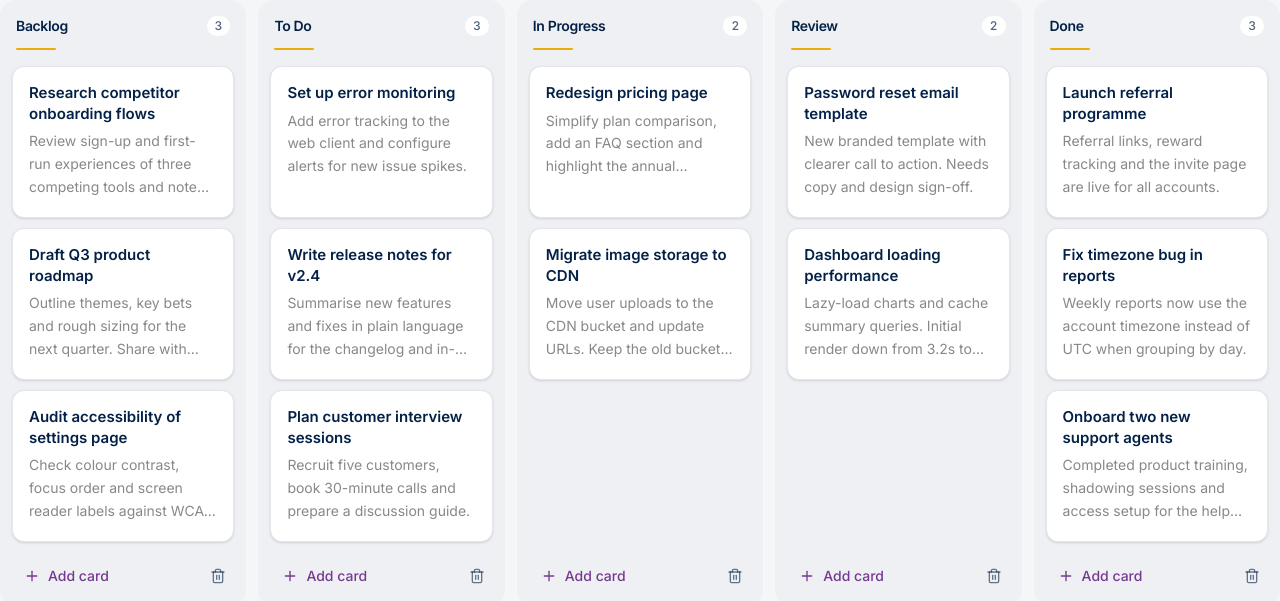
Test case: Column › keeps the old name when cleared or cancelled
Click the button with aria-label "Rename column: Review" at (878, 26), box [783,12,974,40]
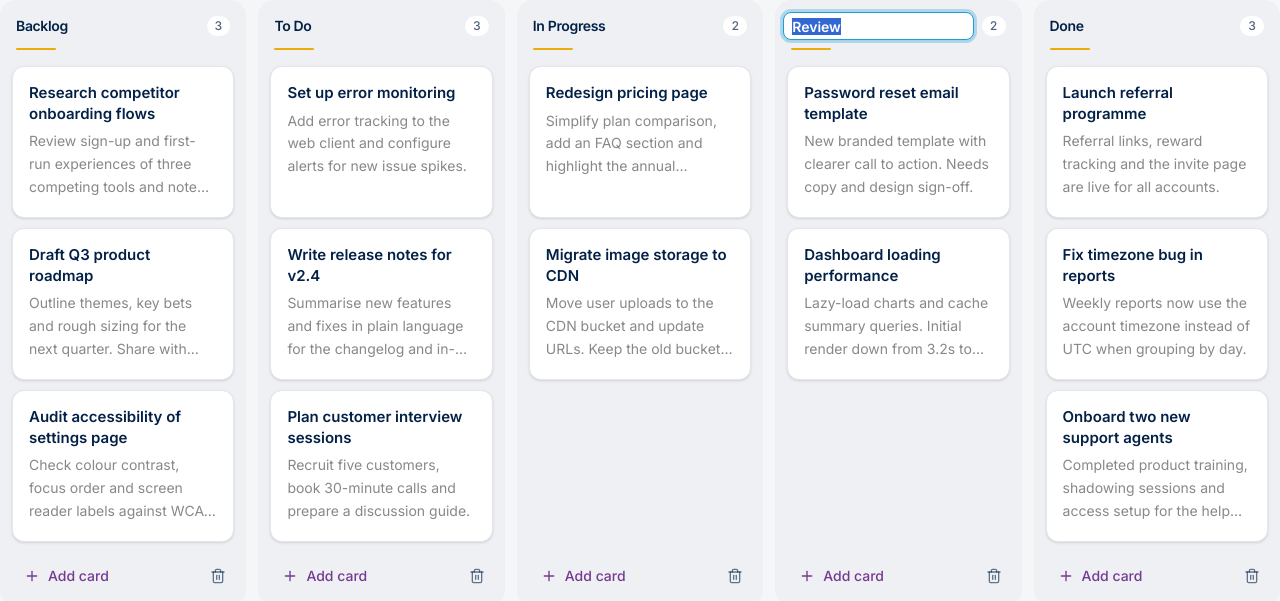
Clear the field named "Column name" at (878, 26), box [783,12,974,40]
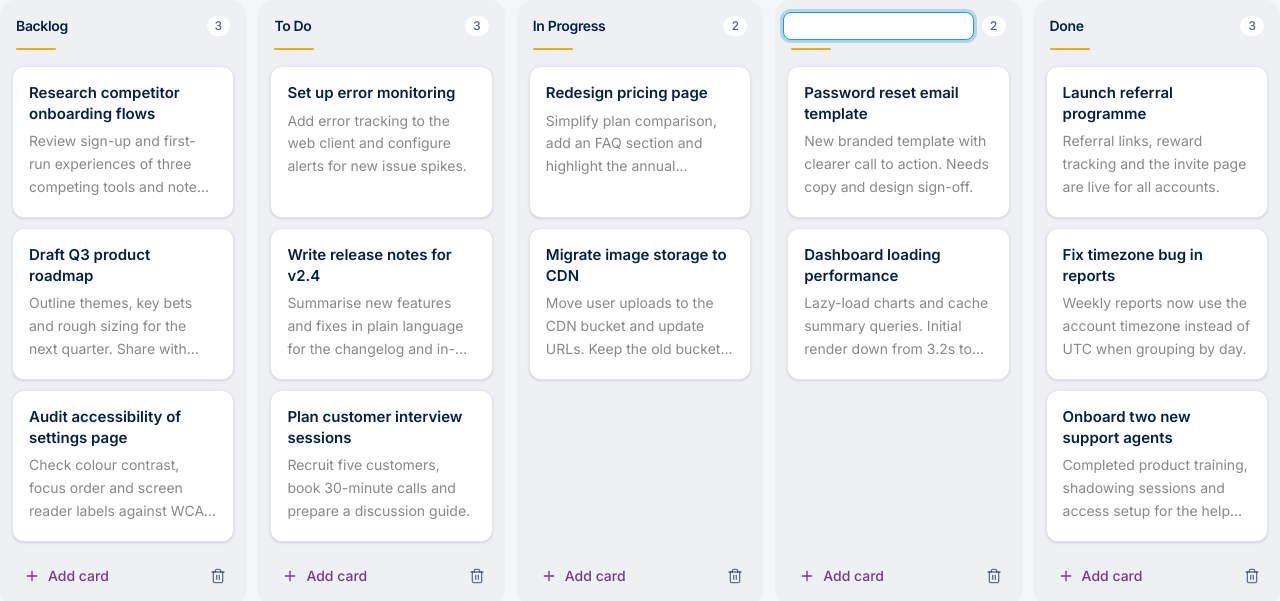
Press Enter
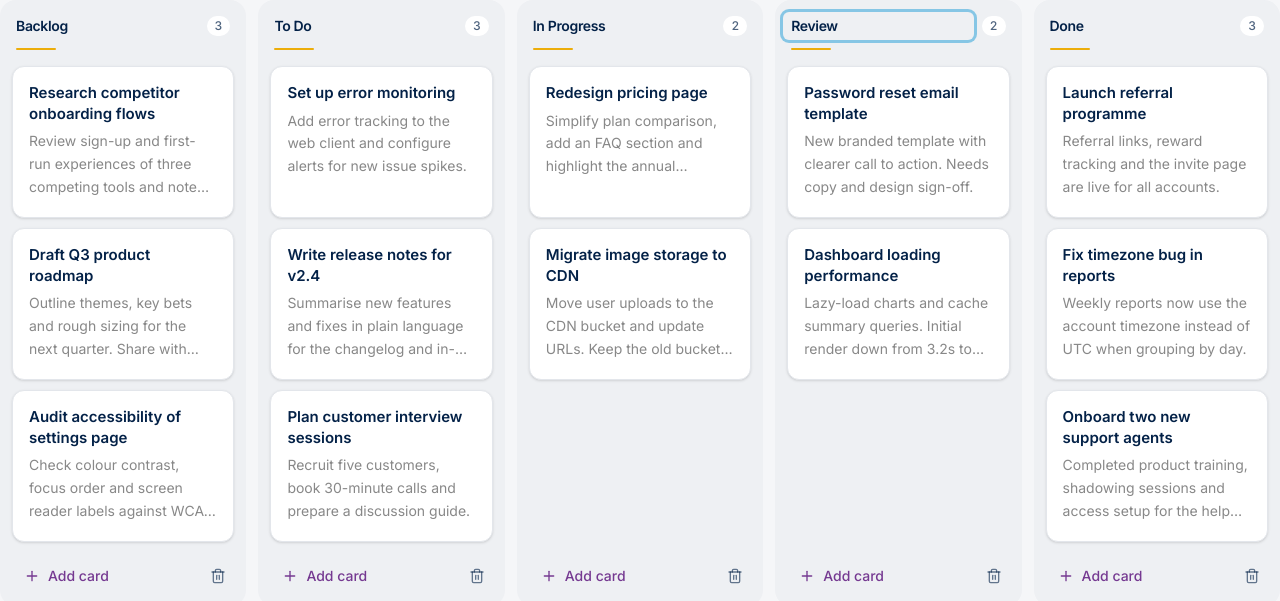
Now the button "Review" is shown
Click the button with aria-label "Rename column: Review" at (878, 26), box [783,12,974,40]
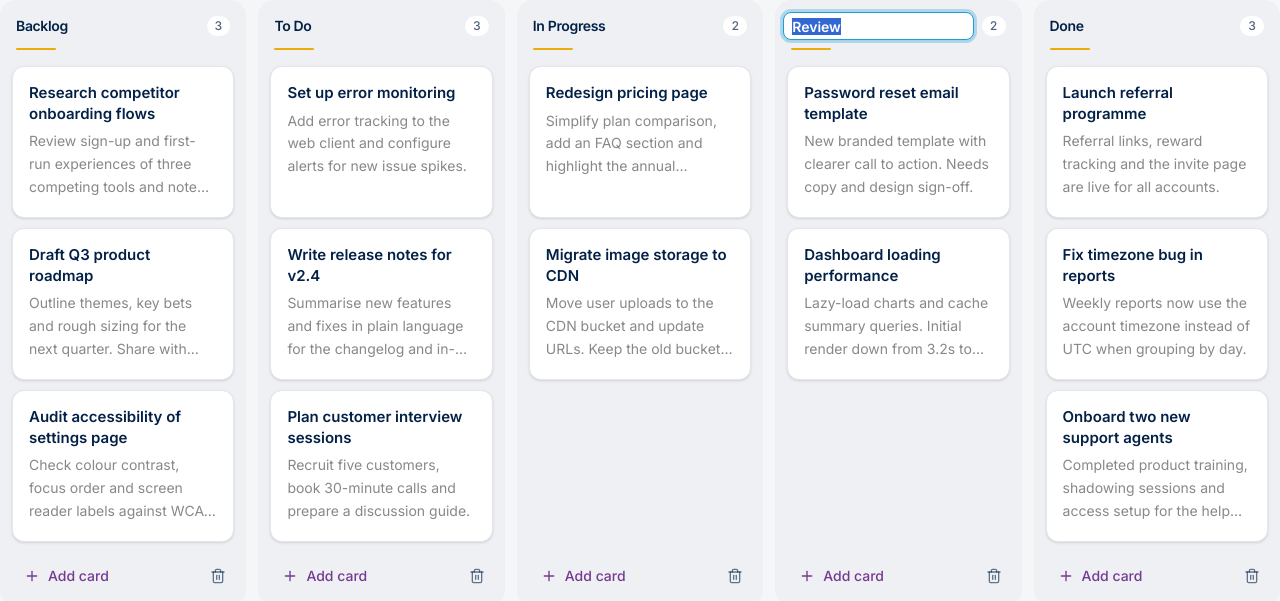
Type "Typo" into the field named "Column name" at (878, 26), box [783,12,974,40]
Then press Escape
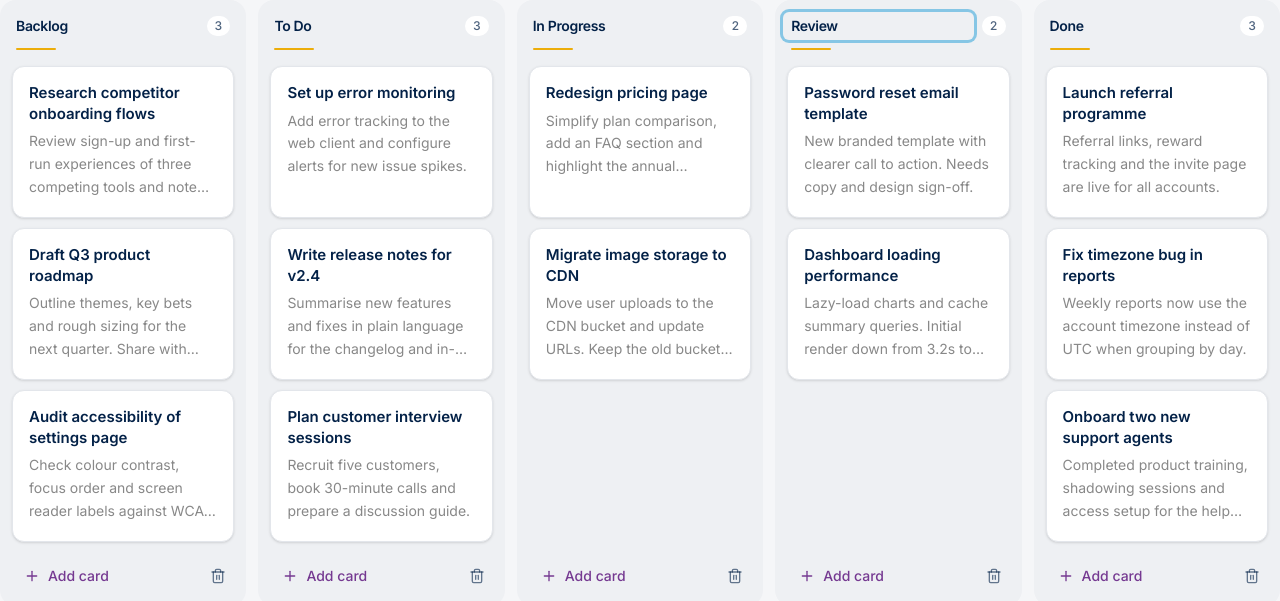
Now the button "Review" is shown, box [783,12,974,40]
